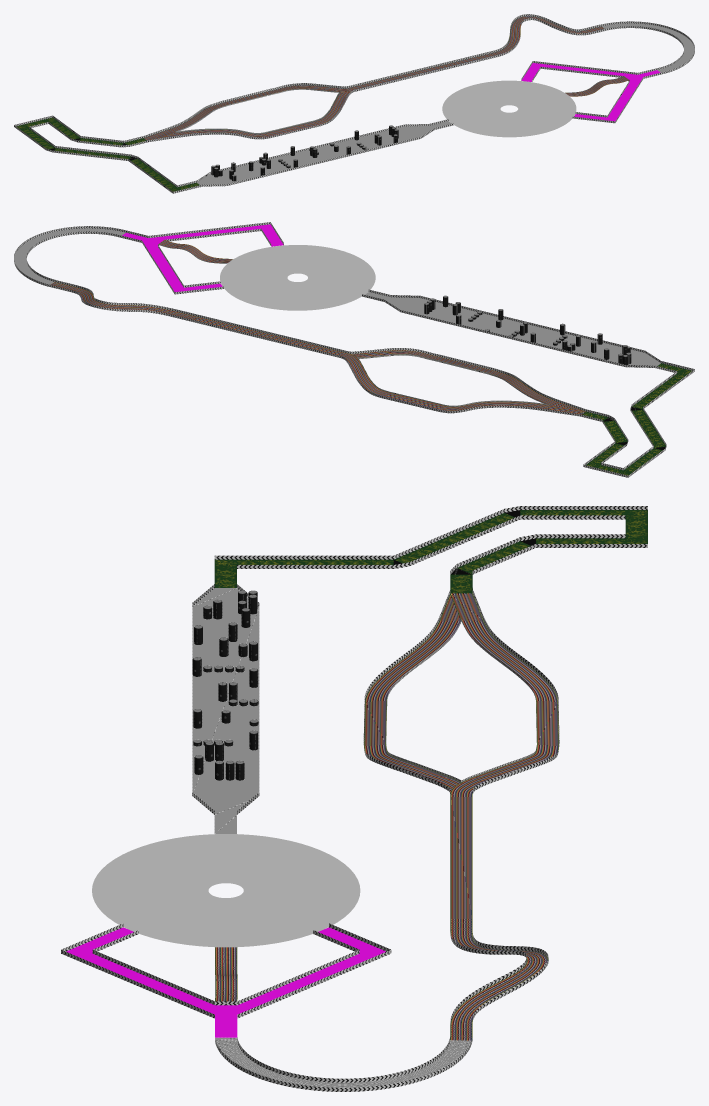
The model's file is Track02.fbx.
The picture shows the model from 3 angles, top to bottom: view 1: azimuth 30°, elevation 25°; view 2: azimuth 150°, elevation 25°; view 3: azimuth 270°, elevation 25°; orthographic projection. The views are drawn at different scales.
Parts seen in each view (by area): view 1: TrackBase, Disc; view 2: TrackBase, Disc; view 3: TrackBase, Disc.
Boxes of the visible parts, x1,y1,x2,y2 form: TrackBase: (14,14,694,193); Disc: (442,80,576,137); TrackBase: (14,222,694,477); Disc: (220,245,375,310); TrackBase: (61,506,647,1091); Disc: (92,834,360,947).
Bounding box in the file's own units: 153845 × 4268 × 65570.
